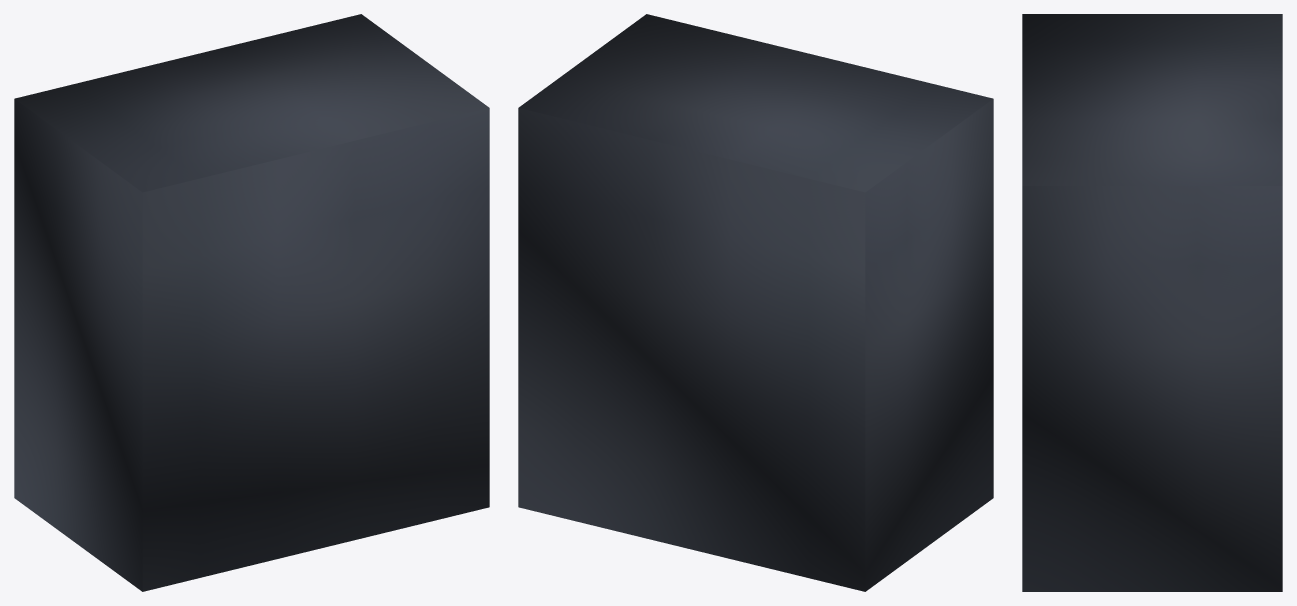
File: pack.agentspace.clothing.jacket.01.glb
3 views of the same model, side by side, from view 1: azimuth 30°, elevation 25°; view 2: azimuth 150°, elevation 25°; view 3: azimuth 270°, elevation 25° (orthographic).
Visible parts, largest first — view 1: pack.agentspace.clothing.jacket.01.mesh; view 2: pack.agentspace.clothing.jacket.01.mesh; view 3: pack.agentspace.clothing.jacket.01.mesh.
Part boxes in pixels (x1,y1,x2,y2): pack.agentspace.clothing.jacket.01.mesh: (14, 14, 489, 591); pack.agentspace.clothing.jacket.01.mesh: (518, 14, 993, 591); pack.agentspace.clothing.jacket.01.mesh: (1022, 14, 1282, 591).
Bounding box in the file's own units: 0.5 × 0.55 × 0.32.
1 material, 1 textured.
